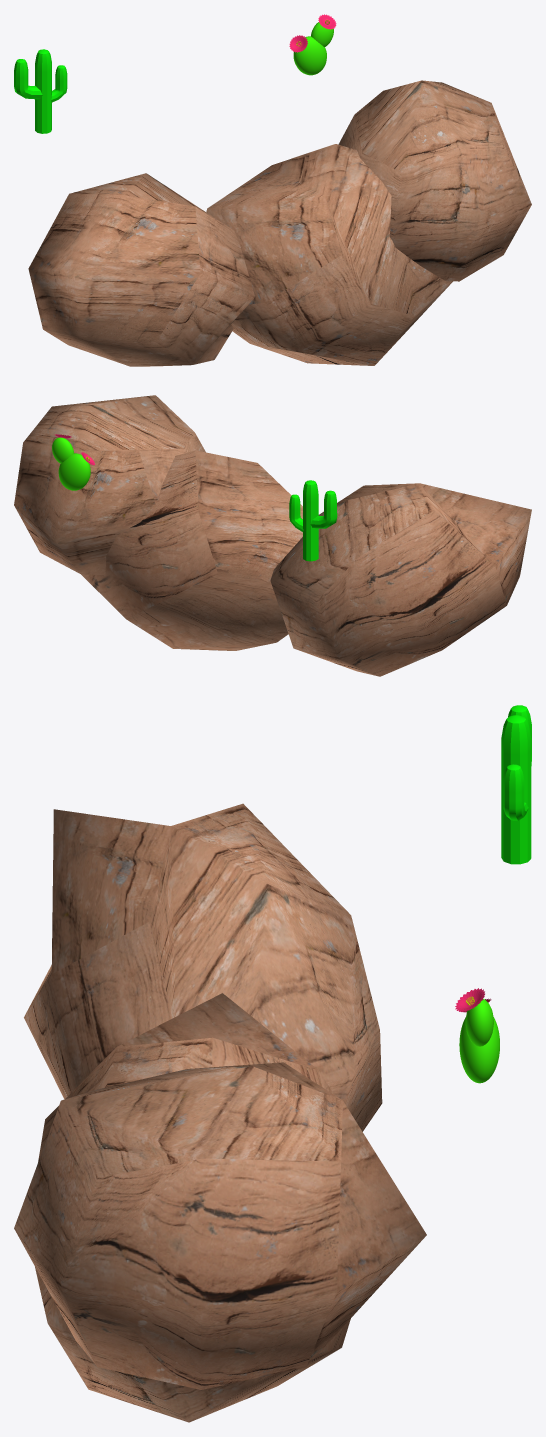
The model's file is Land7.obj.
3 views of the same model, one above another, from view 1: azimuth 30°, elevation 25°; view 2: azimuth 150°, elevation 25°; view 3: azimuth 270°, elevation 25° (orthographic). The views are drawn at different scales.
Visible parts, largest first — view 1: pCube1, pCube2, RockSmall1:pCube1, group1 MediumCactus:pCylinder1, group2 SmallCactus:pSphere1, group1 MediumCactus:pCylinder2, MediumCactus:pCylinder3 group1; view 2: pCube2, pCube1, RockSmall1:pCube1, group1 MediumCactus:pCylinder1, group2 SmallCactus:pSphere1, group1 MediumCactus:pCylinder2, group2 SmallCactus:pSphere2, MediumCactus:pCylinder3 group1; view 3: RockSmall1:pCube1, pCube2, pCube1, group1 MediumCactus:pCylinder1, group2 SmallCactus:pSphere1, MediumCactus:pCylinder3 group1, group2 SmallCactus:pSphere2.
Boxes of the visible parts, bbox=[...] form: pCube1: bbox=[206, 144, 452, 365]; pCube2: bbox=[28, 173, 254, 366]; RockSmall1:pCube1: bbox=[338, 80, 531, 281]; group1 MediumCactus:pCylinder1: bbox=[35, 49, 51, 133]; group2 SmallCactus:pSphere1: bbox=[293, 36, 326, 75]; group1 MediumCactus:pCylinder2: bbox=[14, 59, 42, 99]; MediumCactus:pCylinder3 group1: bbox=[51, 65, 67, 102]; pCube2: bbox=[270, 483, 531, 676]; pCube1: bbox=[81, 450, 302, 650]; RockSmall1:pCube1: bbox=[14, 395, 205, 575]; group1 MediumCactus:pCylinder1: bbox=[303, 480, 318, 561]; group2 SmallCactus:pSphere1: bbox=[58, 453, 90, 490]; group1 MediumCactus:pCylinder2: bbox=[310, 490, 337, 528]; group2 SmallCactus:pSphere2: bbox=[52, 437, 73, 463]; MediumCactus:pCylinder3 group1: bbox=[289, 494, 303, 531]; RockSmall1:pCube1: bbox=[14, 1062, 426, 1389]; pCube2: bbox=[24, 803, 382, 1131]; pCube1: bbox=[35, 993, 350, 1422]; group1 MediumCactus:pCylinder1: bbox=[501, 715, 531, 864]; group2 SmallCactus:pSphere1: bbox=[459, 1017, 499, 1083]; MediumCactus:pCylinder3 group1: bbox=[503, 764, 528, 820]; group2 SmallCactus:pSphere2: bbox=[465, 999, 493, 1046].
Size of the model in its own units: 7.13 by 4.03 by 3.72.
Materials: 5 (1 with a texture image).
